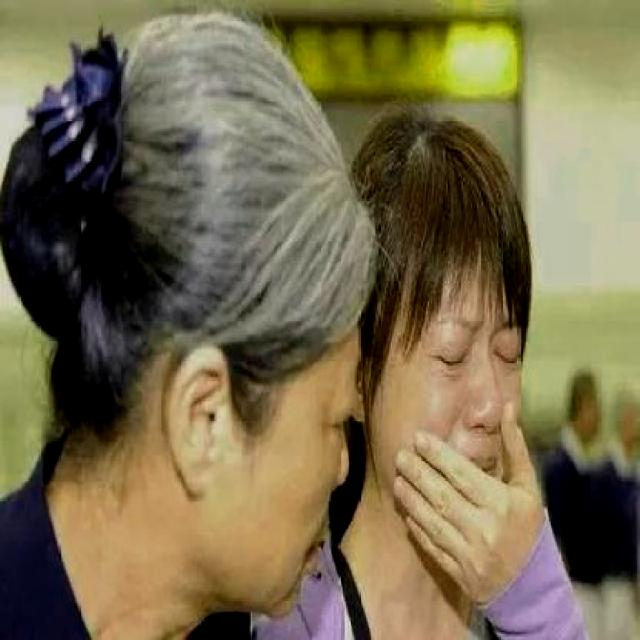face_nomask: (176, 234, 364, 609), (400, 262, 532, 489)
hand_noglove: (390, 403, 548, 606)
head_nohelmet: (77, 18, 378, 304), (372, 106, 530, 286)
